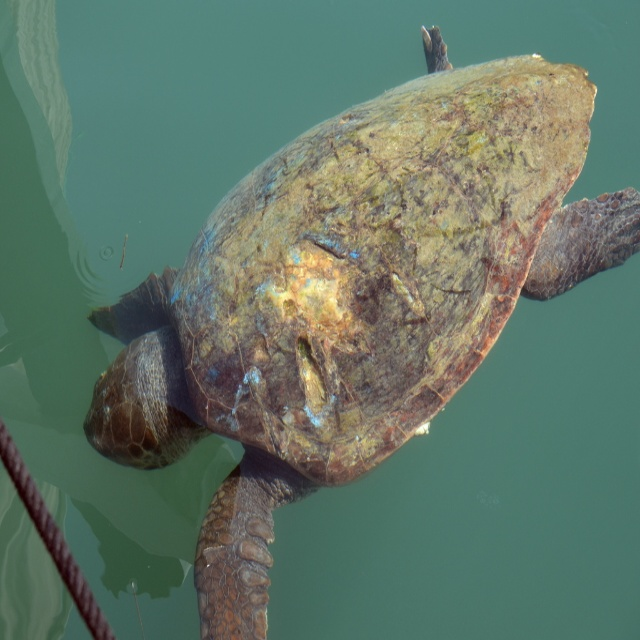Sea turtle: (82, 22, 640, 639)
